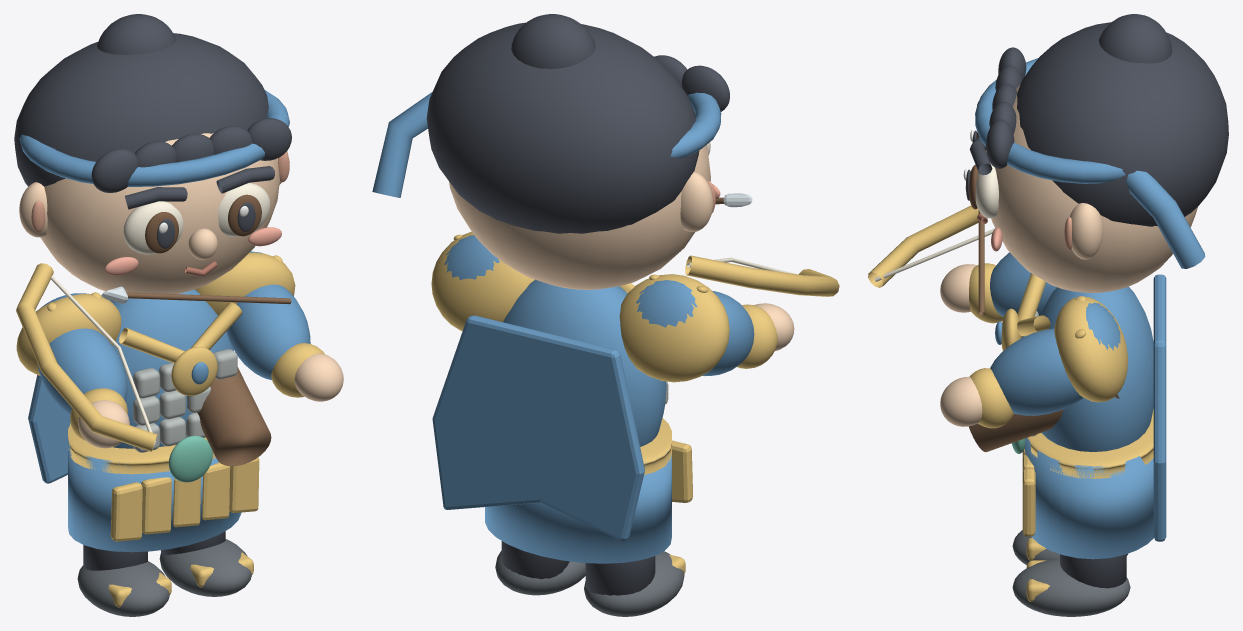
File: tutorial_hunter.fbx
The picture shows the model from 3 angles, left to right: view 1: azimuth 30°, elevation 25°; view 2: azimuth 150°, elevation 25°; view 3: azimuth 270°, elevation 25°; orthographic projection. The views are drawn at different scales.
Parts seen in each view (by area): view 1: hair_mass, face, robe_skirt, body, headband, sleeve, quiver, recurve_bow, sleeve.001, boot, boot.001, shoulder_gold.001 (+42 smaller); view 2: hair_mass, cape, face, robe_skirt, body, shoulder_gold.001, shoulder_gold, hair_bun, recurve_bow, headband_tail, boot, leg (+12 smaller); view 3: hair_mass, face, robe_skirt, body, sleeve, shoulder_gold, boot.001, cape, headband, headband_tail, belt, hair_bun (+21 smaller).
Part boxes in pixels (left/top/right/bottom): hair_mass: left=14, top=33, right=268, bottom=186; face: left=40, top=133, right=279, bottom=294; robe_skirt: left=68, top=438, right=241, bottom=552; body: left=110, top=289, right=233, bottom=448; headband: left=19, top=89, right=289, bottom=186; sleeve: left=226, top=284, right=310, bottom=380; quiver: left=197, top=367, right=271, bottom=466; recurve_bow: left=16, top=263, right=157, bottom=451; sleeve.001: left=38, top=328, right=127, bottom=414; boot: left=77, top=561, right=169, bottom=616; boot.001: left=159, top=539, right=251, bottom=596; shoulder_gold.001: left=16, top=293, right=121, bottom=375; hair_mass: left=426, top=22, right=699, bottom=233; cape: left=432, top=315, right=644, bottom=540; face: left=449, top=145, right=710, bottom=289; robe_skirt: left=485, top=452, right=671, bottom=563; body: left=503, top=279, right=666, bottom=446; shoulder_gold.001: left=619, top=274, right=729, bottom=382; shoulder_gold: left=431, top=231, right=534, bottom=331; hair_bun: left=511, top=14, right=595, bottom=68; recurve_bow: left=685, top=255, right=839, bottom=296; headband_tail: left=372, top=92, right=432, bottom=197; boot: left=584, top=551, right=684, bottom=616; leg: left=585, top=556, right=655, bottom=595; hair_mass: left=1017, top=22, right=1228, bottom=226; face: left=985, top=84, right=1197, bottom=292; robe_skirt: left=1024, top=438, right=1153, bottom=559; body: left=1040, top=286, right=1153, bottom=451; sleeve: left=990, top=328, right=1083, bottom=415; shoulder_gold: left=1054, top=296, right=1128, bottom=402; boot.001: left=1012, top=558, right=1130, bottom=616; cape: left=1153, top=274, right=1166, bottom=541; headband: left=975, top=58, right=1125, bottom=183; headband_tail: left=1126, top=170, right=1205, bottom=268; belt: left=1027, top=409, right=1153, bottom=478; hair_bun: left=1099, top=14, right=1172, bottom=63.
Bounding box in the file's own units: 1.41 × 2.46 × 1.41.
